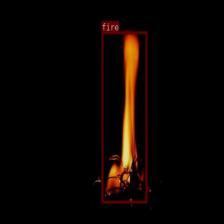fire: (101, 30, 147, 203)
